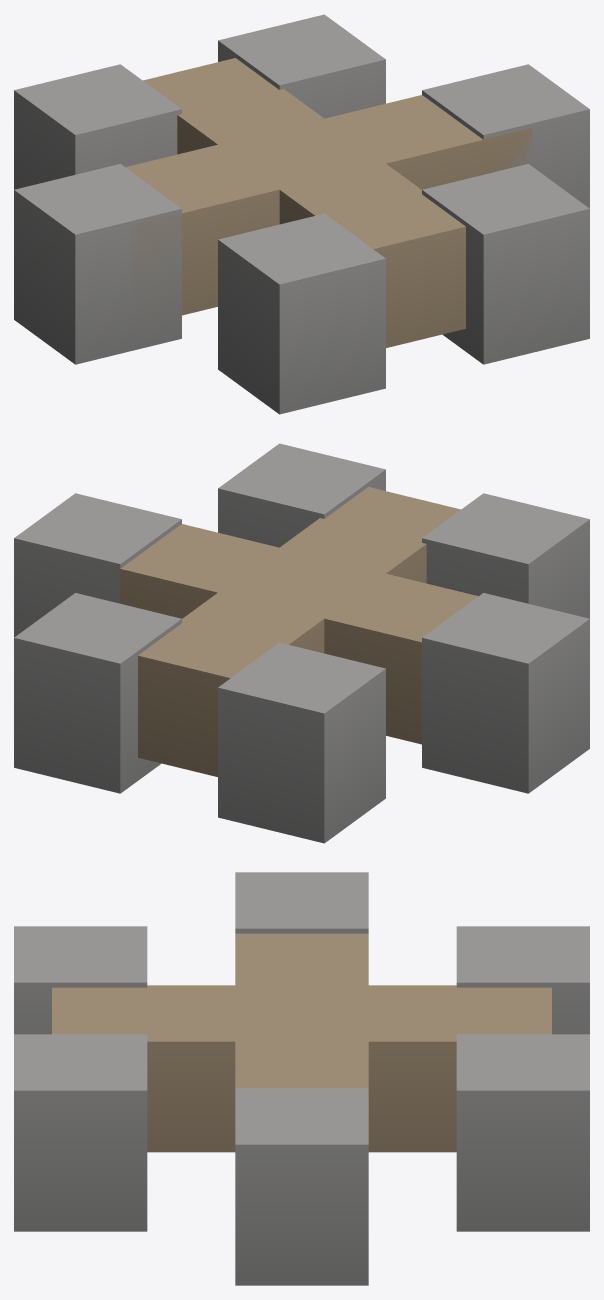
Rendered from campfire.glb.
3 views of the same model, one above another, from view 1: azimuth 30°, elevation 25°; view 2: azimuth 150°, elevation 25°; view 3: azimuth 270°, elevation 25° (orthographic). The views are drawn at different scales.
Parts seen in each view (by area): view 1: root; view 2: root; view 3: root.
Part boxes in pixels (x1=…): root: x1=14, y1=14, x2=589, y2=414; root: x1=14, y1=443, x2=589, y2=843; root: x1=14, y1=872, x2=589, y2=1285.
Size of the model in its own units: 1.16 by 0.28 by 1.04.
